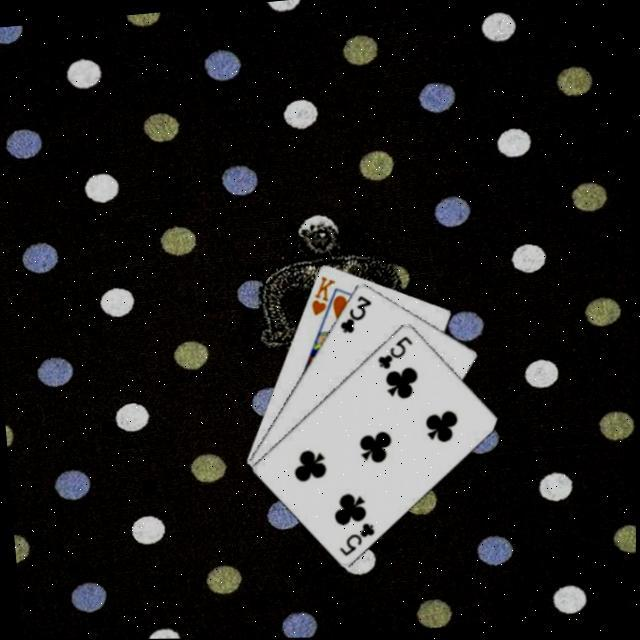3C: (333, 289, 375, 336)
5C: (371, 331, 416, 372), (334, 517, 379, 558)
KH: (304, 271, 340, 318)
